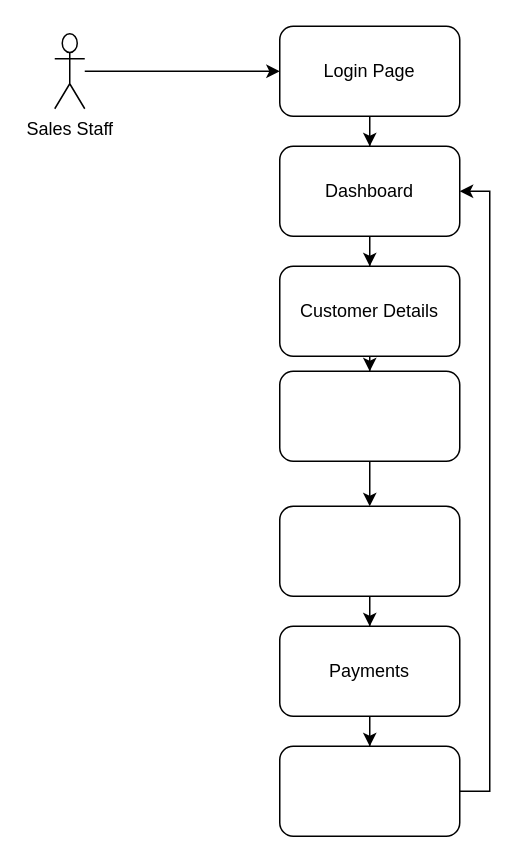
Some shapes in this 528 by 863 pixel diagram are drawn without their labels. The shapes that lost their labels are listed below. From the top down, each one's box as (x1, y1, x2, y2) in pixels, then its label:
(278, 370, 460, 461): Loan Details
(278, 505, 460, 596): Doc Upload
(278, 745, 460, 836): Application Form
